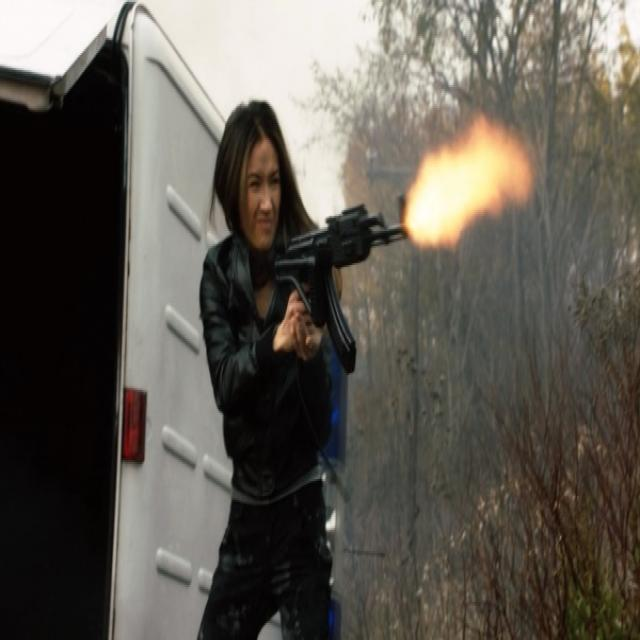rifle: (267, 184, 416, 379)
